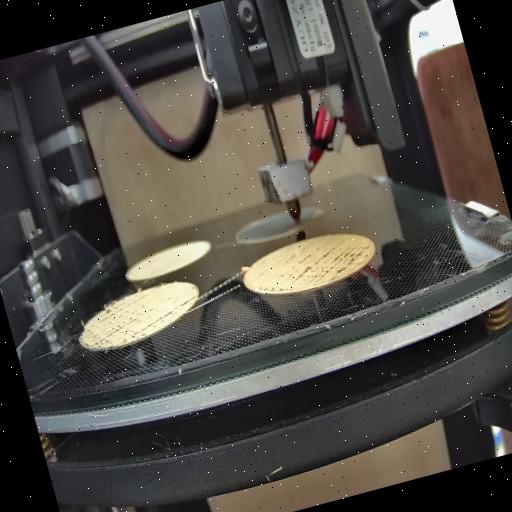under_extrusion: (252, 236, 378, 300), (79, 295, 160, 351), (154, 292, 202, 320)
